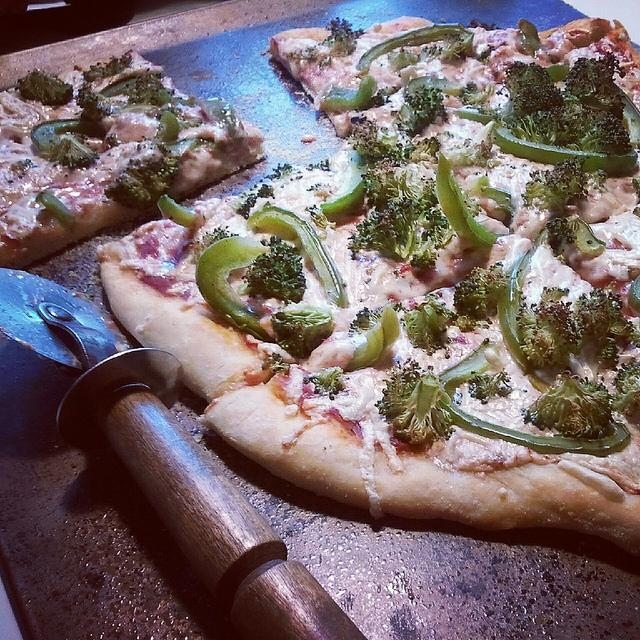bell pepper: (246, 206, 351, 308), (196, 236, 275, 342), (436, 150, 506, 248), (491, 128, 636, 170), (357, 23, 474, 70), (496, 248, 536, 376), (344, 305, 400, 372), (436, 340, 492, 400), (604, 81, 640, 149), (320, 162, 366, 213), (472, 175, 516, 228), (320, 76, 378, 114), (30, 119, 81, 155), (35, 190, 77, 232), (158, 195, 200, 228), (574, 218, 606, 258), (406, 76, 466, 96), (97, 72, 137, 101), (515, 18, 542, 58), (453, 111, 513, 125), (156, 110, 180, 142), (628, 274, 640, 313), (546, 64, 570, 82)
broccoli: (521, 158, 608, 256), (348, 196, 454, 264), (502, 104, 633, 156), (520, 370, 614, 440), (516, 287, 581, 369), (104, 143, 179, 211), (573, 286, 640, 362), (382, 378, 457, 444), (237, 236, 307, 306), (562, 54, 628, 120), (361, 158, 439, 212), (344, 305, 400, 372), (499, 62, 564, 118), (453, 262, 512, 320), (402, 297, 458, 356), (391, 84, 448, 137), (272, 310, 332, 357), (15, 68, 74, 105), (122, 68, 175, 107), (318, 18, 367, 58), (348, 303, 402, 337), (49, 134, 100, 170), (348, 118, 398, 154), (190, 226, 239, 262), (611, 360, 640, 417), (467, 368, 512, 404), (81, 54, 134, 82), (303, 366, 345, 400), (76, 86, 113, 122), (404, 138, 442, 164), (458, 81, 494, 107), (305, 204, 337, 232), (440, 31, 466, 63), (388, 48, 422, 70), (158, 110, 180, 142), (262, 352, 290, 376), (410, 248, 440, 270), (235, 193, 258, 220), (417, 44, 442, 63), (306, 160, 331, 172), (257, 184, 275, 199), (278, 162, 292, 172)
